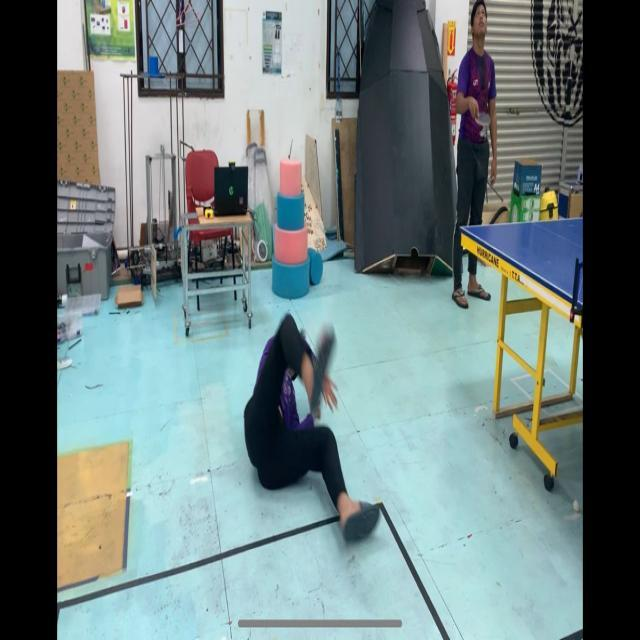fall: (235, 287, 387, 547)
